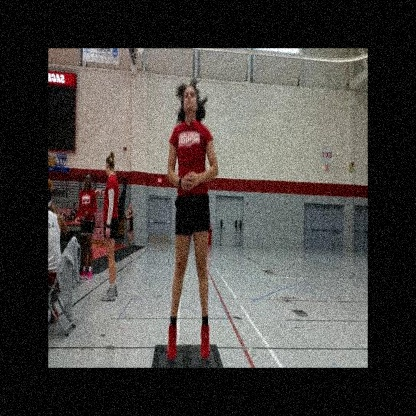lateral_flexion_left: (164, 74, 219, 368)
stance_width_normal: (164, 116, 219, 368)
